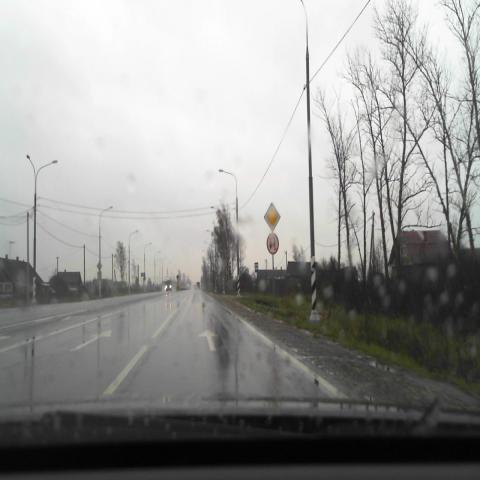3_19: (267, 232, 278, 254)
